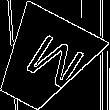M_SW: (8, 28, 80, 94)
